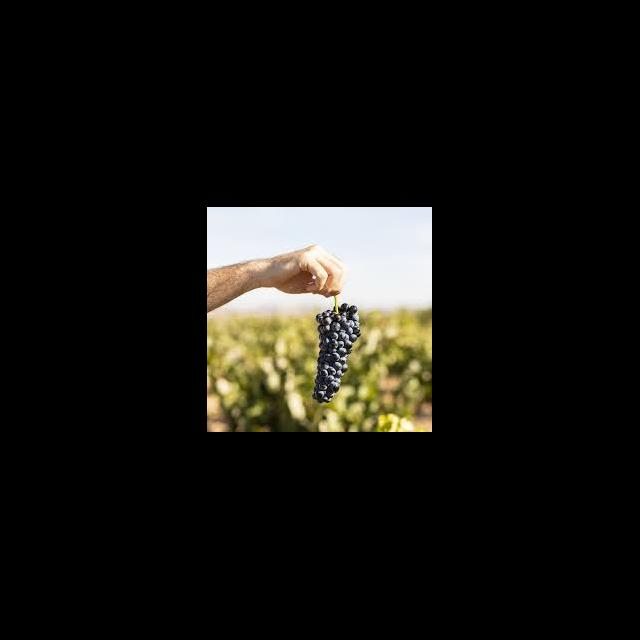grape: (312, 302, 362, 403)
